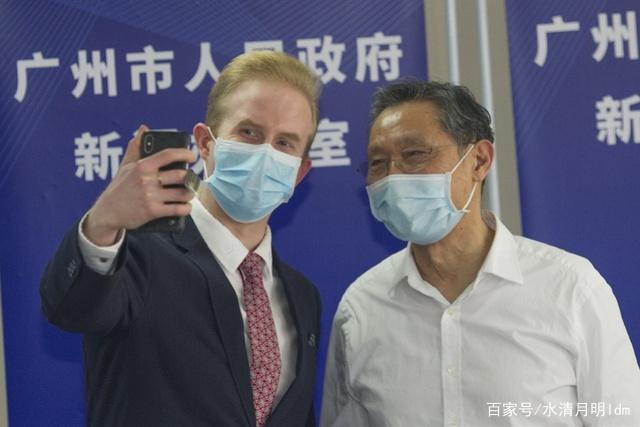mask: (208, 80, 319, 226), (362, 116, 472, 250)
